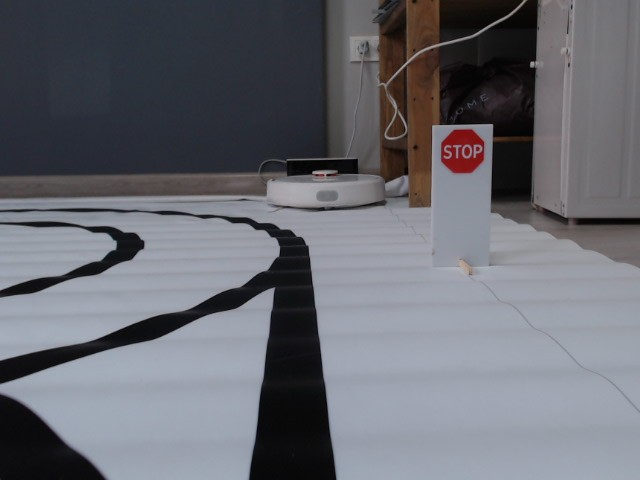Stop: (441, 124, 487, 170)
